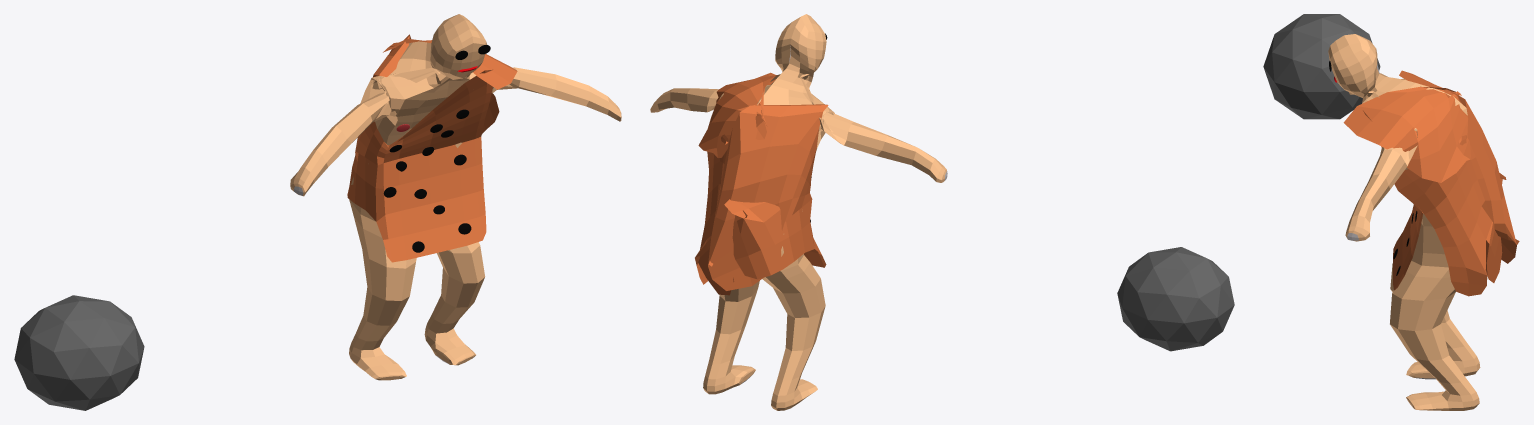
Rendered from panačeknavěž1.fbx.
3 views of the same model, side by side, from view 1: azimuth 30°, elevation 25°; view 2: azimuth 150°, elevation 25°; view 3: azimuth 270°, elevation 25° (orthographic). The views are drawn at different scales.
Visible parts, largest first — view 1: Cube, Plane, Icosphere; view 2: Plane, Cube, Icosphere; view 3: Plane, Cube, Icosphere.
Part boxes in pixels (x1=…): Cube: x1=290, y1=14, x2=621, y2=380; Plane: x1=347, y1=34, x2=517, y2=262; Icosphere: x1=14, y1=295, x2=144, y2=410; Plane: x1=695, y1=72, x2=828, y2=295; Cube: x1=650, y1=14, x2=947, y2=410; Icosphere: x1=1117, y1=247, x2=1234, y2=351; Plane: x1=1343, y1=70, x2=1519, y2=296; Cube: x1=1328, y1=34, x2=1480, y2=410; Icosphere: x1=1263, y1=14, x2=1380, y2=119.
Bounding box in the file's own units: 469 × 279 × 181.
